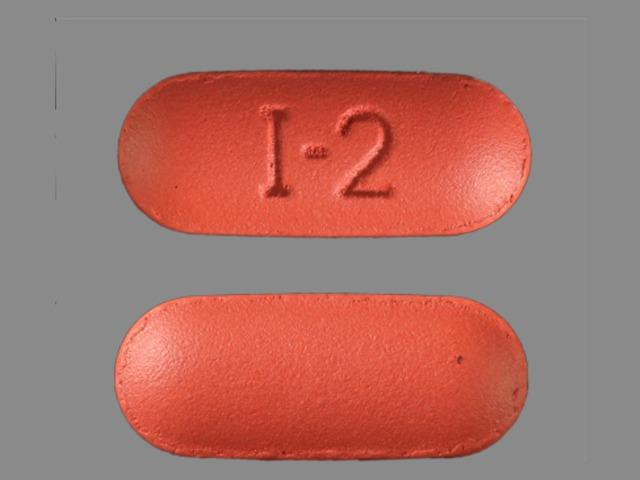Ibuprofen 200 MG Oral Tablet: (112, 60, 541, 244), (106, 285, 538, 466)
